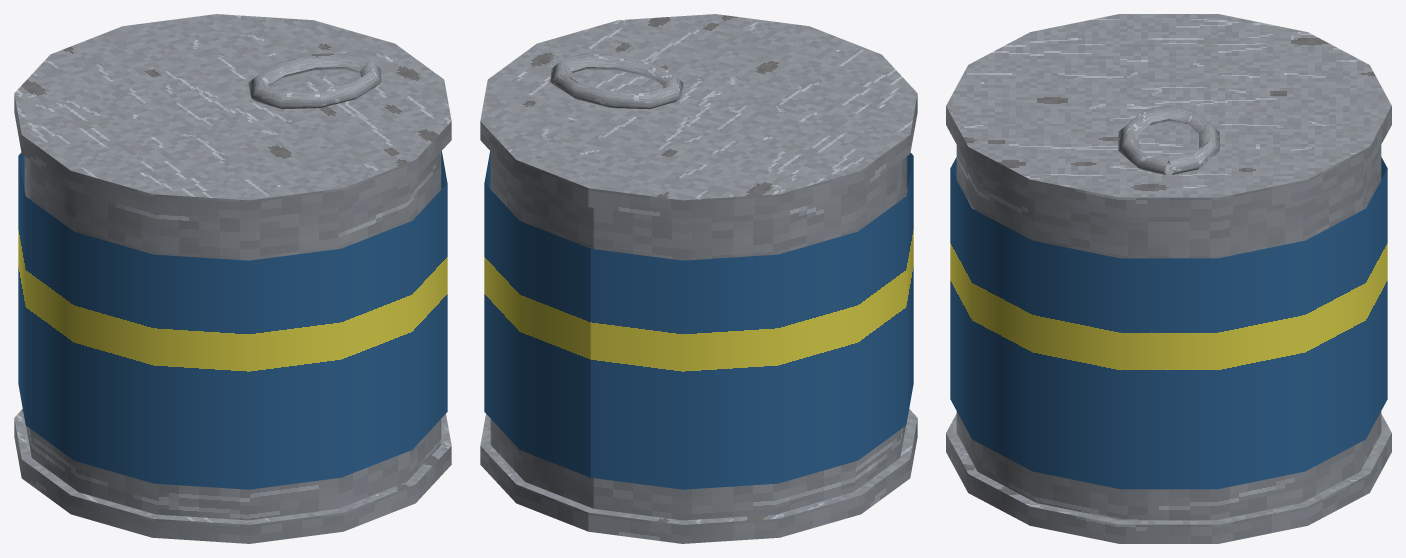
Rendered from item_canned.glb.
The picture shows the model from 3 angles, left to right: view 1: azimuth 30°, elevation 25°; view 2: azimuth 150°, elevation 25°; view 3: azimuth 270°, elevation 25°; orthographic projection.
Visible parts, largest first — view 1: item_canned; view 2: item_canned; view 3: item_canned.
Part boxes in pixels (x1,y1,x2,y2): item_canned: [14, 14, 451, 543]; item_canned: [480, 14, 917, 543]; item_canned: [946, 14, 1391, 543].
Size of the model in its own units: 0.0819 by 0.075 by 0.084.
Materials: 2 (2 with a texture image).
